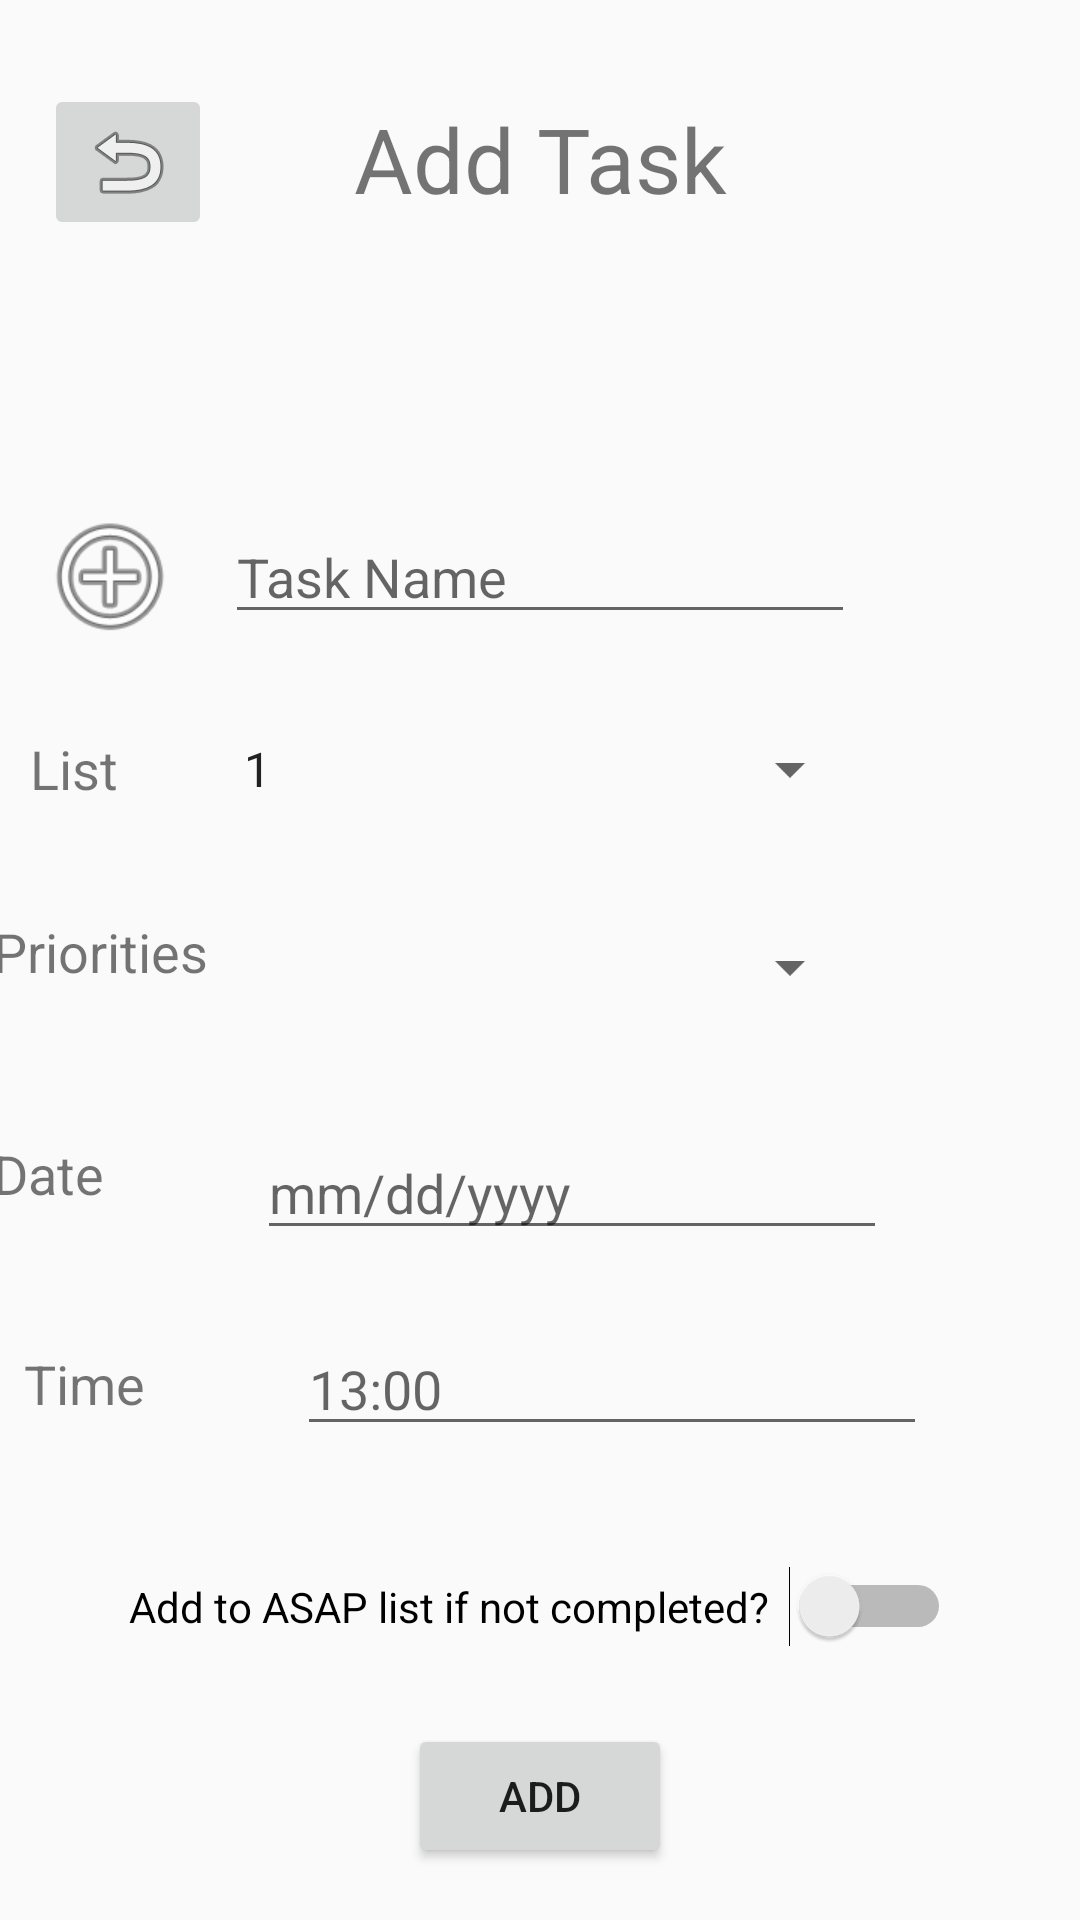

Locate icon controls on the screen. Image size 1080px×1920px, boxes as (x1, y1, x2, y2).
add: (56, 523, 164, 630)
revert: (56, 102, 200, 222)
